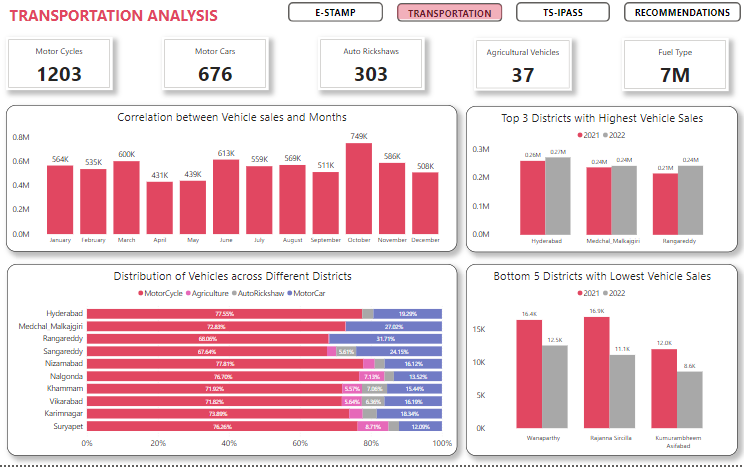

The dashboard page shown, as its layout file describes it:
{"tool":"powerbi","page":{"name":"TRANSPORTATION","canvas":[1600,1000],"ordinal":2},"visuals":[{"type":"textbox","box":[25,15,653.3,75],"z":0},{"type":"cardVisual","fields":{"Data":["Count(fact_transport.vehicleClass_MotorCycle)"]},"box":[23.3,90,226.7,113.3],"z":1000},{"type":"cardVisual","fields":{"Data":["Count(fact_transport.vehicleClass_MotorCar)"]},"box":[355.5,90,226.7,113.3],"z":2000},{"type":"cardVisual","fields":{"Data":["Count(fact_transport.vehicleClass_Agriculture)"]},"box":[1019.8,90.5,208.1,112.2],"z":3000},{"type":"cardVisual","fields":{"Data":["Count(fact_transport.vehicleClass_AutoRickshaw)"]},"box":[687.6,90,226.7,113.3],"z":4000},{"type":"cardVisual","fields":{"Data":["Transportation Measures.Transport fuel type"]},"box":[1333.3,91.1,226.7,113.3],"z":5000},{"type":"clusteredColumnChart","title":"Correlation between Vehicle sales and Months","fields":{"Category":["dim_date.month.Variation.Date Hierarchy.Month"],"Y":["Transportation Measures.Transport fuel type"]},"box":[23.3,235,960,311.7],"z":6000},{"type":"hundredPercentStackedBarChart","title":"Distribution of Vehicles across Different Districts","fields":{"Category":["dim_districts.district"],"Y":["Sum(fact_transport.vehicleClass_MotorCycle)","Divide(Sum(fact_transport.vehicleClass_Agriculture), ScopedEval(Sum(fact_transport.vehicleClass_Agriculture), []))","Divide(Sum(fact_transport.vehicleClass_AutoRickshaw), ScopedEval(Sum(fact_transport.vehicleClass_AutoRickshaw), []))","Sum(fact_transport.vehicleClass_MotorCar)"]},"box":[25,572.2,958.3,408.3],"z":7000},{"type":"clusteredColumnChart","title":"Top 3 Districts with Highest Vehicle Sales","fields":{"Category":["dim_districts.district"],"Y":["Transportation Measures.Petrol diesel electric sales"],"Series":["dim_date.fiscal_year"]},"box":[1002.8,236.1,577.8,311.1],"z":8000},{"type":"clusteredColumnChart","title":"Bottom 5 Districts with Lowest Vehicle Sales","fields":{"Category":["dim_districts.district"],"Y":["Transportation Measures.Petrol diesel electric sales"],"Series":["dim_date.fiscal_year"]},"box":[1002.8,572.2,577.8,408.3],"z":9000},{"type":"actionButton","box":[624.4,15.6,202.2,42.2],"z":10000},{"type":"actionButton","box":[855.6,17.8,224.4,40],"z":11000},{"type":"actionButton","box":[1108.9,15.6,200,42.2],"z":12000},{"type":"actionButton","box":[1337.8,15.6,248.9,42.2],"z":13000},{"type":"shape","box":[855.6,20,224.4,33.3],"z":14000}]}

Visuals, with their boxes in screenshot pixels (x1, y1, x2, y2), scaled from the page's 1600x1000 canvas onto the 744x467 screenshot:
textbox: box=[12, 7, 315, 42]
cardVisual - Count(fact_transport.vehicleClass_MotorCycle): box=[11, 42, 116, 95]
cardVisual - Count(fact_transport.vehicleClass_MotorCar): box=[165, 42, 271, 95]
cardVisual - Count(fact_transport.vehicleClass_Agriculture): box=[474, 42, 571, 95]
cardVisual - Count(fact_transport.vehicleClass_AutoRickshaw): box=[320, 42, 425, 95]
cardVisual - Transportation Measures.Transport fuel type: box=[620, 43, 725, 95]
"Correlation between Vehicle sales and Months" clusteredColumnChart: box=[11, 110, 457, 255]
"Distribution of Vehicles across Different Districts" hundredPercentStackedBarChart: box=[12, 267, 457, 458]
"Top 3 Districts with Highest Vehicle Sales" clusteredColumnChart: box=[466, 110, 735, 256]
"Bottom 5 Districts with Lowest Vehicle Sales" clusteredColumnChart: box=[466, 267, 735, 458]
actionButton: box=[290, 7, 384, 27]
actionButton: box=[398, 8, 502, 27]
actionButton: box=[516, 7, 609, 27]
actionButton: box=[622, 7, 738, 27]
shape: box=[398, 9, 502, 25]
